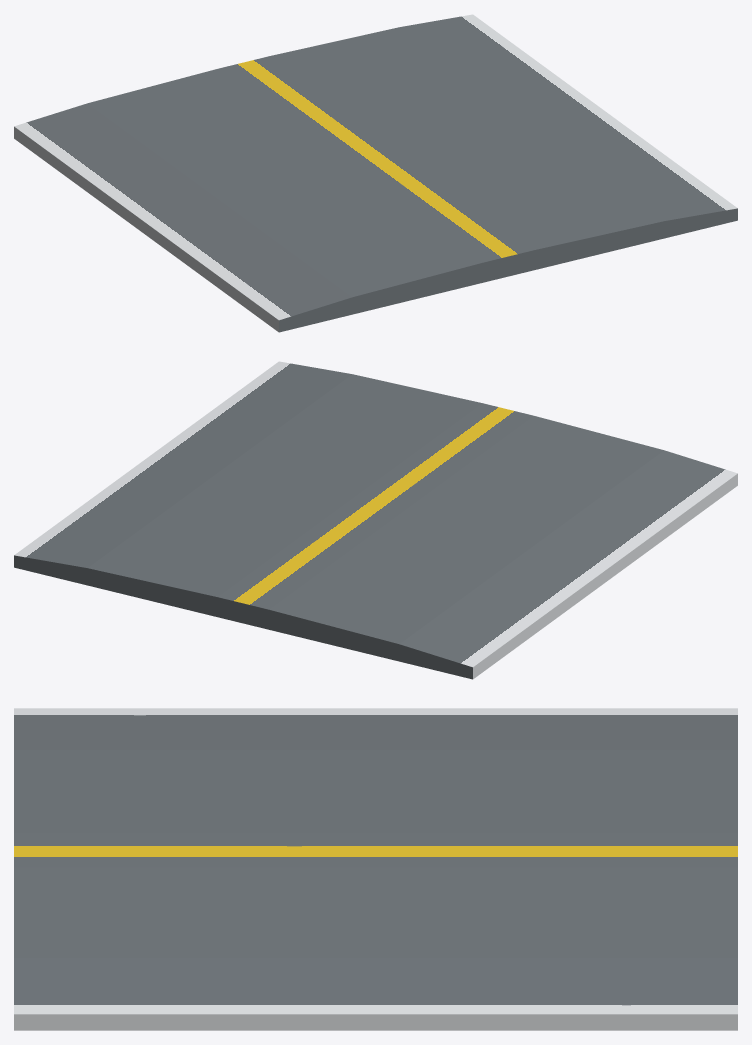
File: Road.fbx
3 renders of one model, top to bottom at view 1: azimuth 30°, elevation 25°; view 2: azimuth 150°, elevation 25°; view 3: azimuth 270°, elevation 25°, orthographic. The views are drawn at different scales.
Parts seen in each view (by area): view 1: Cube; view 2: Cube; view 3: Cube.
Part boxes in pixels (x1,y1,x2,y2): Cube: (14,14,737,332); Cube: (14,361,737,679); Cube: (14,708,737,1030).
Size of the model in its own units: 1176 by 49.21 by 1176.
